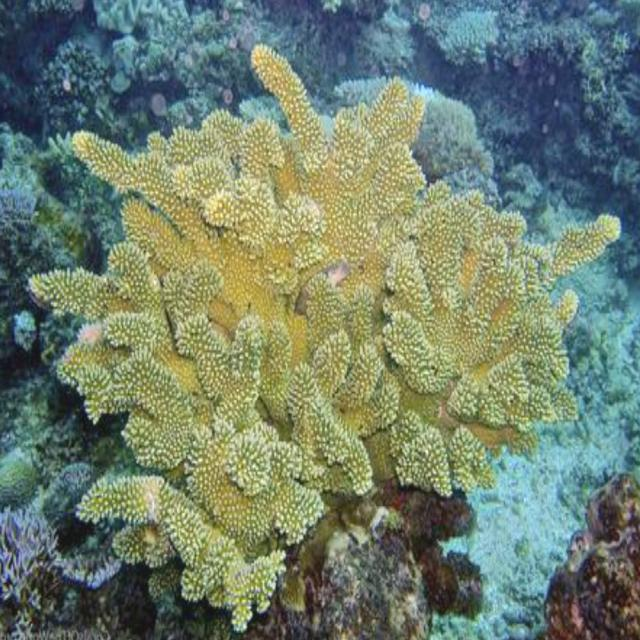Coral: (27, 44, 621, 632)
